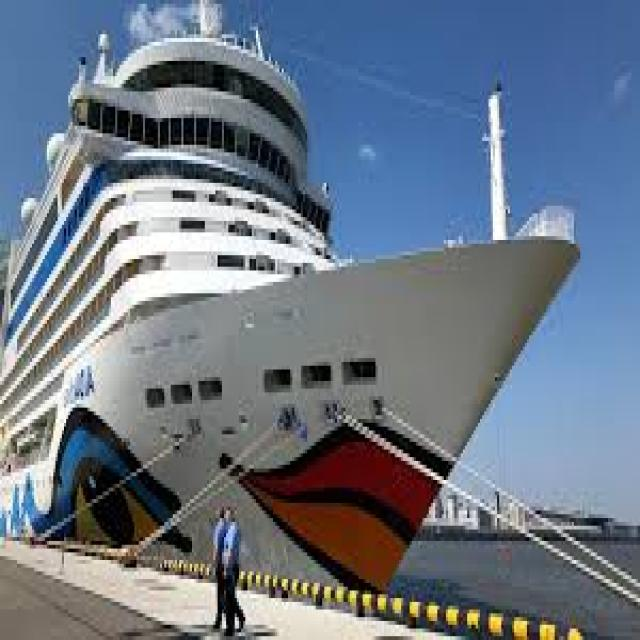PassengerShip: (36, 64, 552, 603)
